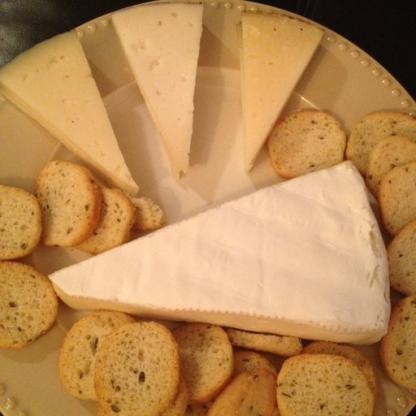bread: (92, 324, 180, 415), (61, 315, 136, 407), (348, 102, 415, 194), (168, 318, 235, 408), (278, 356, 374, 415), (34, 164, 97, 250), (268, 110, 344, 178), (0, 263, 53, 350), (380, 294, 416, 388), (373, 165, 415, 235), (382, 220, 415, 302), (0, 188, 38, 256)
mozarella cheese: (53, 162, 391, 349)
parmesan cheese: (0, 28, 139, 194), (115, 0, 206, 185), (239, 0, 317, 169)
